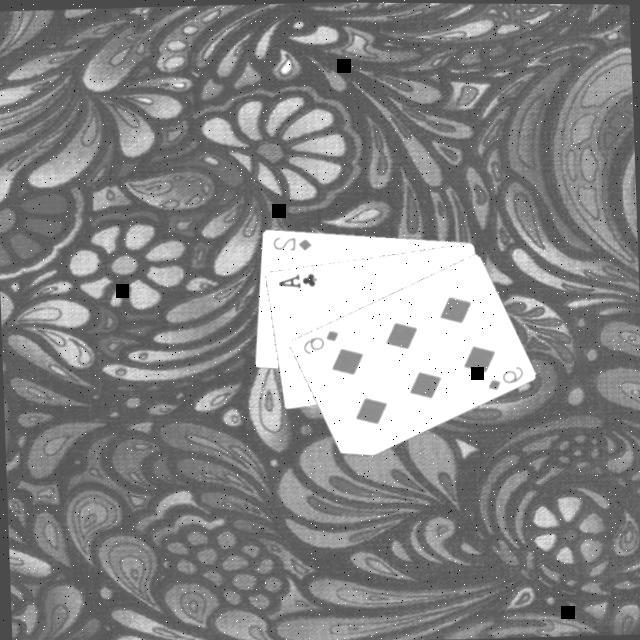2D: (266, 231, 312, 253)
6D: (296, 324, 340, 356), (481, 360, 524, 391)
AC: (272, 268, 317, 290)
